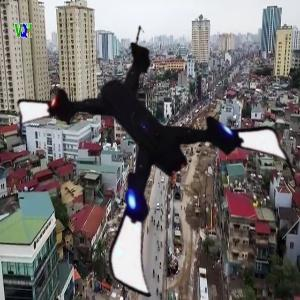drone: (41, 28, 286, 273)
